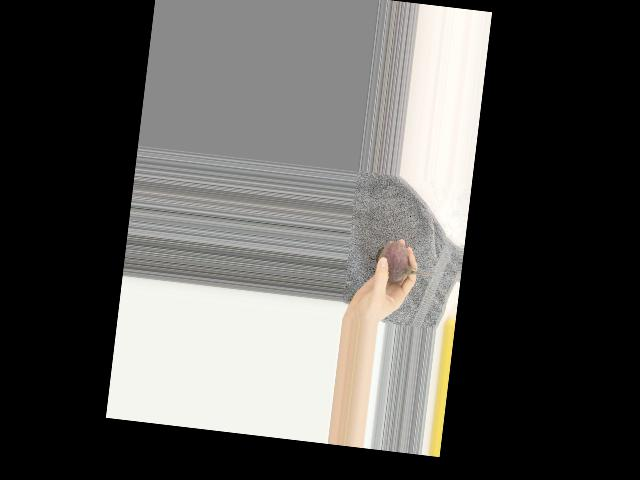beet: (372, 239, 438, 286)
